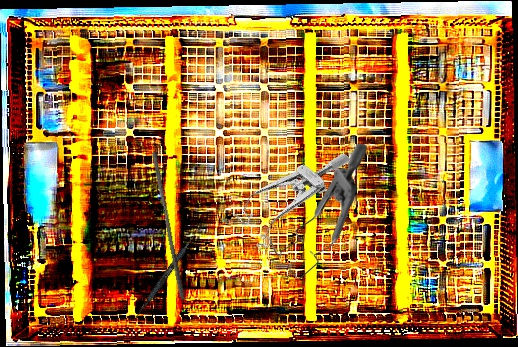Pusher: (146, 150, 191, 301)
Spatula Surgical: (133, 223, 203, 322)
Speculum: (225, 123, 352, 260), (271, 144, 367, 279)
